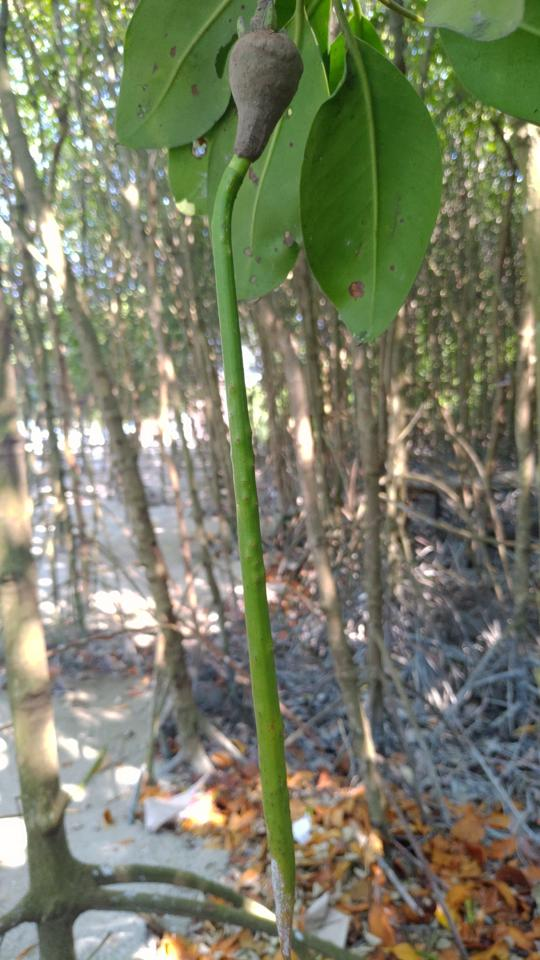setengah matang: (204, 8, 322, 953)
